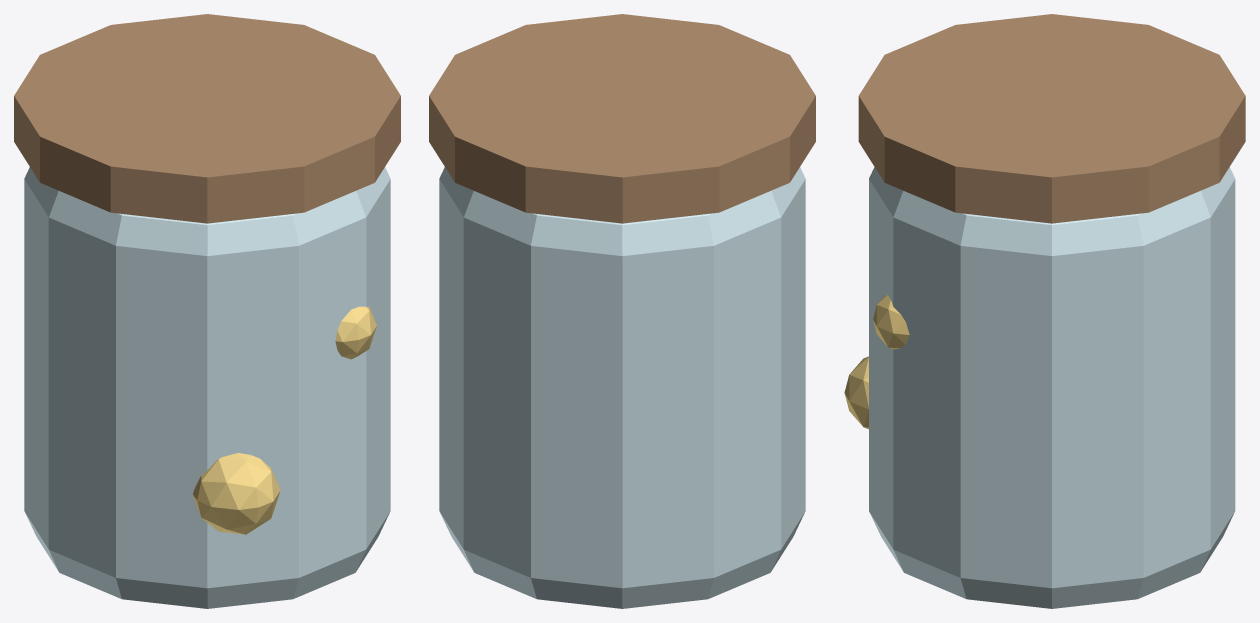
Rendered from cozy-home-interiors-fairy-jar-11315724.glb.
The picture shows the model from 3 angles, left to right: view 1: azimuth 30°, elevation 25°; view 2: azimuth 150°, elevation 25°; view 3: azimuth 270°, elevation 25°; orthographic projection.
Parts seen in each view (by area): view 1: fairy-jar; view 2: fairy-jar; view 3: fairy-jar.
Boxes of the visible parts, x1,y1,x2,y2 form: fairy-jar: (14, 14, 400, 608); fairy-jar: (429, 14, 815, 608); fairy-jar: (844, 14, 1245, 608).
Bounding box in the file's own units: 0.19 × 0.245 × 0.197.
